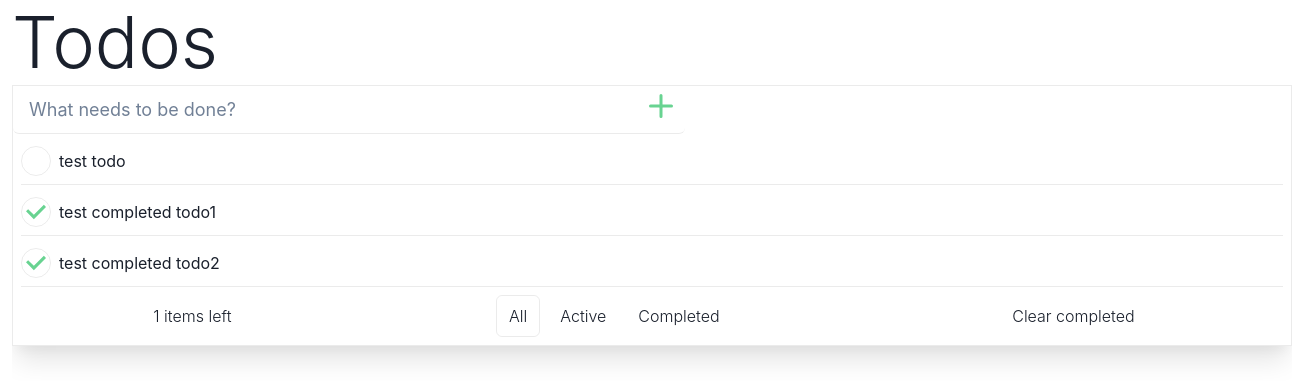
it: Todos page tests › todos filtering work
Expected: the number of list items is 3, [21,146,1283,185]; [21,197,1283,236]; [21,248,1283,287]
Click the text with test id "filter-Active" at [583, 316], box [560,306,606,326]
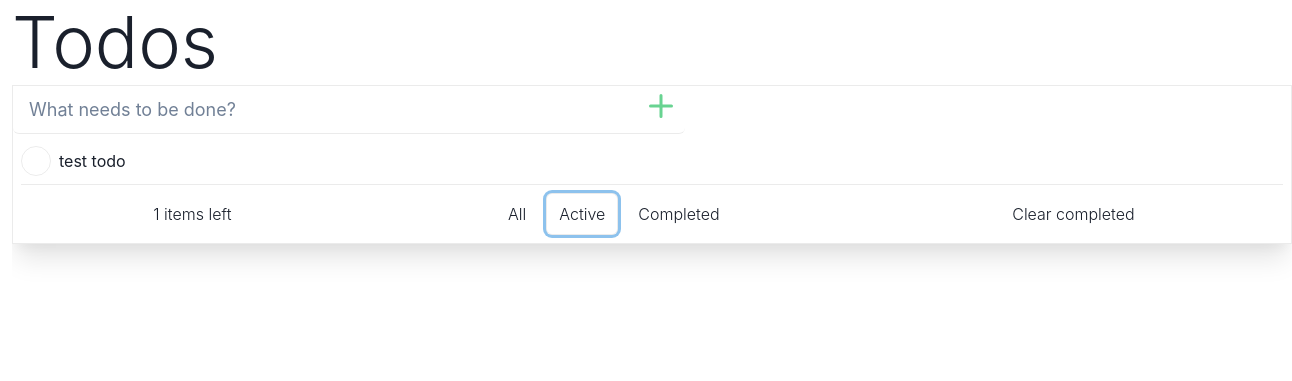
Result: the number of list items is 1 at [21,146,1283,185]
Click the text with test id "filter-Completed" at [679, 214], box [638,204,720,224]
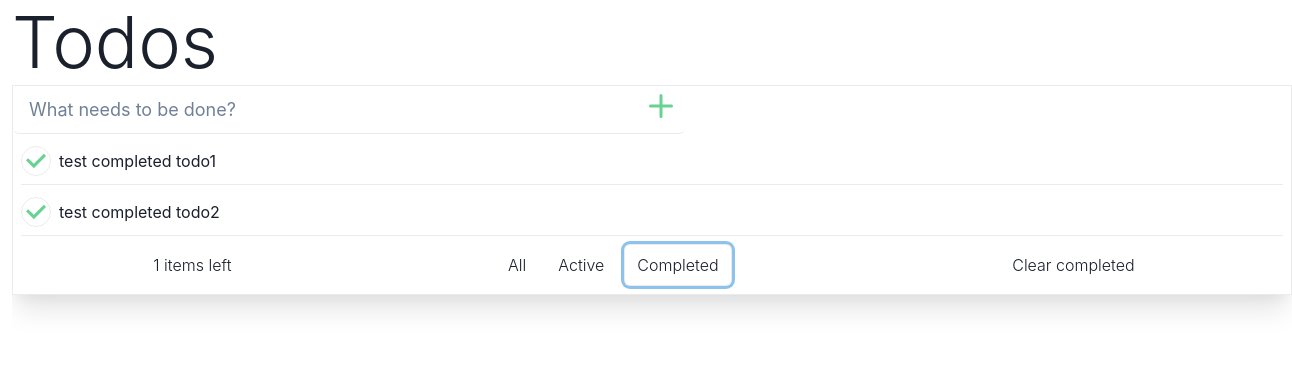
Result: the number of list items is 2 at [21,146,1283,185]; [21,197,1283,236]
Click the text with test id "filter-All" at [517, 265], box [508,255,526,275]
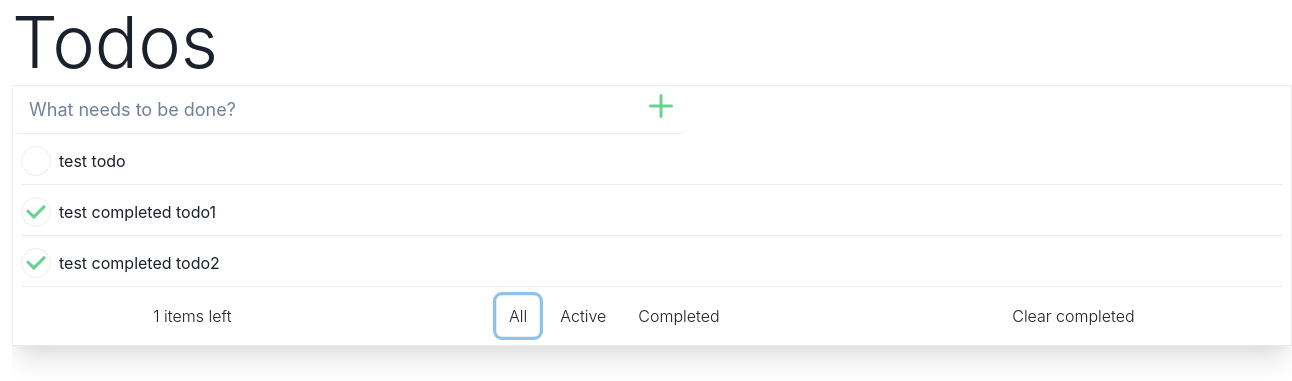
Result: the number of list items is 3 at [21,146,1283,185]; [21,197,1283,236]; [21,248,1283,287]
